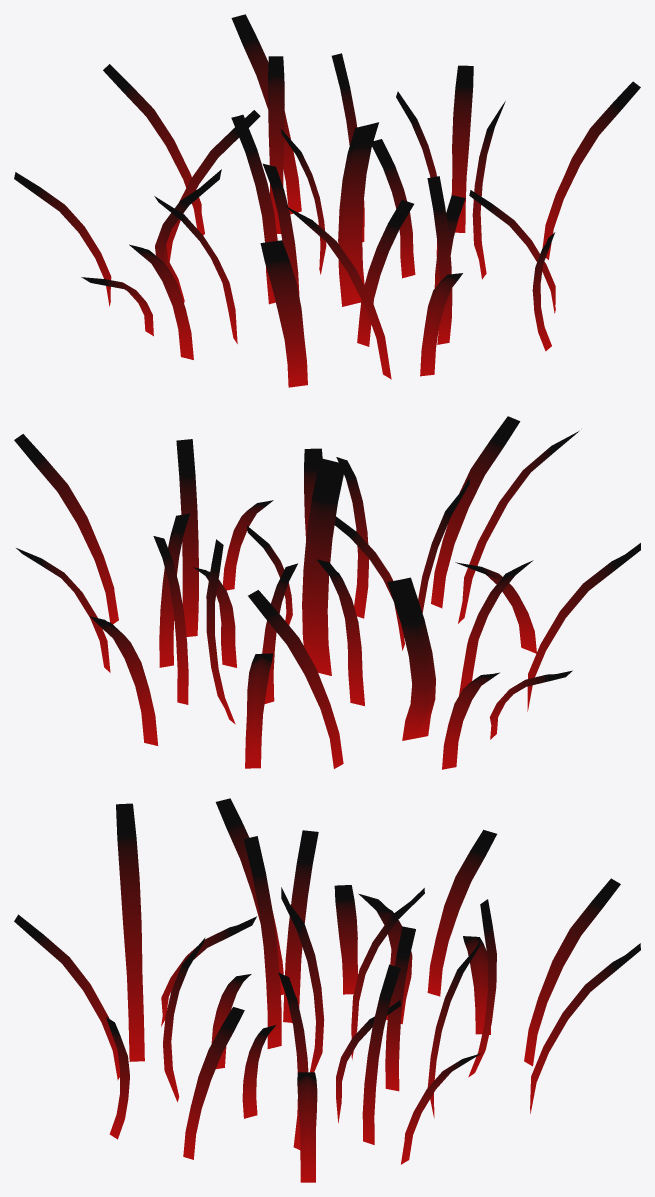
File: gras 1.fbx
3 renders of one model, top to bottom at view 1: azimuth 30°, elevation 25°; view 2: azimuth 150°, elevation 25°; view 3: azimuth 270°, elevation 25°, orthographic. The views are drawn at different scales.
Visible parts, largest first — view 1: Gras; view 2: Gras; view 3: Gras.
Part boxes in pixels (bbox=[...]): Gras: bbox=[14, 14, 640, 387]; Gras: bbox=[14, 416, 640, 769]; Gras: bbox=[14, 798, 640, 1182].
Bounding box in the file's own units: 387 × 135 × 375.
